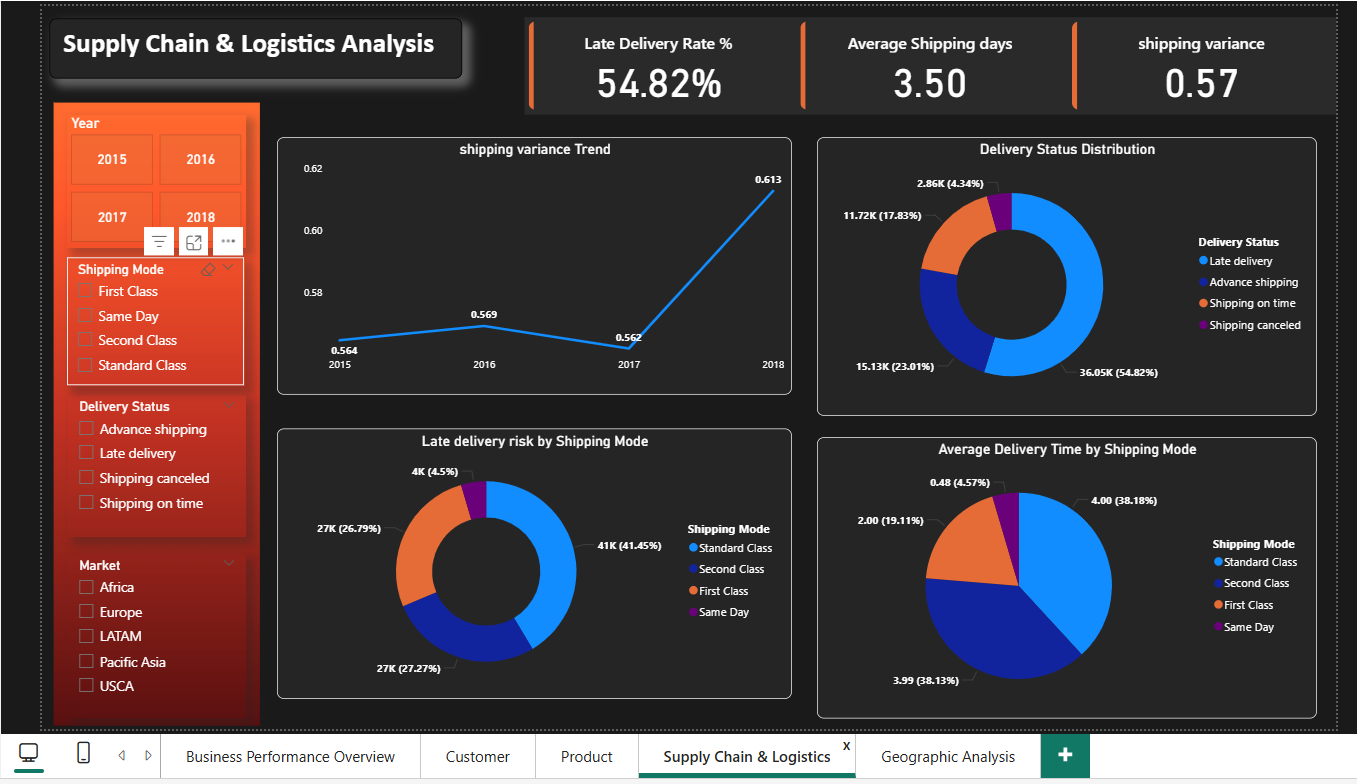

This screenshot's page, from the dashboard's own definition file:
{"tool":"powerbi","page":{"name":"Supply Chain & Logistics","canvas":[1521,850],"ordinal":3},"visuals":[{"type":"cardVisual","fields":{"Data":["fact_orders.late_delivery %","Avg(fact_orders.Days for shipping (real))","fact_orders.shipping variance"]},"box":[566.9,13.2,954.6,114.5],"z":0},{"type":"donutChart","title":"  Delivery Status Distribution","fields":{"Category":["fact_orders.Delivery Status"],"Y":["Count(fact_orders.Order Id)"]},"box":[910.5,154.2,587.4,327.5],"z":1000},{"type":"donutChart","title":" Late delivery risk by Shipping Mode","fields":{"Category":["fact_orders.Shipping Mode"],"Y":["Sum(fact_orders.Late_delivery_risk)"]},"box":[276.1,496.4,605,317.2],"z":2000},{"type":"pieChart","title":"Average Delivery Time by Shipping Mode","fields":{"Category":["fact_orders.Shipping Mode"],"Y":["Avg(fact_orders.Days for shipping (real))"]},"box":[910.5,506.7,587.4,330.4],"z":3000},{"type":"lineChart","title":"shipping variance Trend","fields":{"Category":["fact_orders.order date (DateOrders).Variation.Date Hierarchy.Year","fact_orders.order date (DateOrders).Variation.Date Hierarchy.Month"],"Y":["fact_orders.shipping variance"]},"box":[276.1,154.2,605,302.5],"z":4000},{"type":"textbox","box":[8.8,14.7,484.6,70.5],"z":5000},{"type":"image","box":[8.8,108.7,252.6,741.6],"z":6000},{"type":"advancedSlicerVisual","fields":{"Values":["fact_orders.order date (DateOrders).Variation.Date Hierarchy.Year"]},"box":[29.4,127.8,210,155.7],"z":7000},{"type":"slicer","fields":{"Values":["fact_orders.Shipping Mode"]},"box":[29.4,295.2,208.5,151.3],"z":8000},{"type":"slicer","fields":{"Values":["fact_orders.Delivery Status"]},"box":[30.8,456.7,208.5,167.4],"z":9000},{"type":"slicer","fields":{"Values":["fact_orders.Market"]},"box":[30.8,643.2,208.5,193.9],"z":10000}]}

Visuals, with their boxes on the page's 1521x850 design canvas (x1, y1, x2, y2). These are canvas units, not pixel positions in the 1357x784 screenshot, which may show the page scaled, cropped or inside an application window:
cardVisual - fact_orders.late_delivery % x Avg(fact_orders.Days for shipping (real)): l=567, t=13, r=1522, b=128
"  Delivery Status Distribution" donutChart: l=910, t=154, r=1498, b=482
" Late delivery risk by Shipping Mode" donutChart: l=276, t=496, r=881, b=814
"Average Delivery Time by Shipping Mode" pieChart: l=910, t=507, r=1498, b=837
"shipping variance Trend" lineChart: l=276, t=154, r=881, b=457
textbox: l=9, t=15, r=493, b=85
image: l=9, t=109, r=261, b=850
advancedSlicerVisual - fact_orders.order date (DateOrders).Variation.Date Hierarchy.Year: l=29, t=128, r=239, b=284
slicer - fact_orders.Shipping Mode: l=29, t=295, r=238, b=446
slicer - fact_orders.Delivery Status: l=31, t=457, r=239, b=624
slicer - fact_orders.Market: l=31, t=643, r=239, b=837
